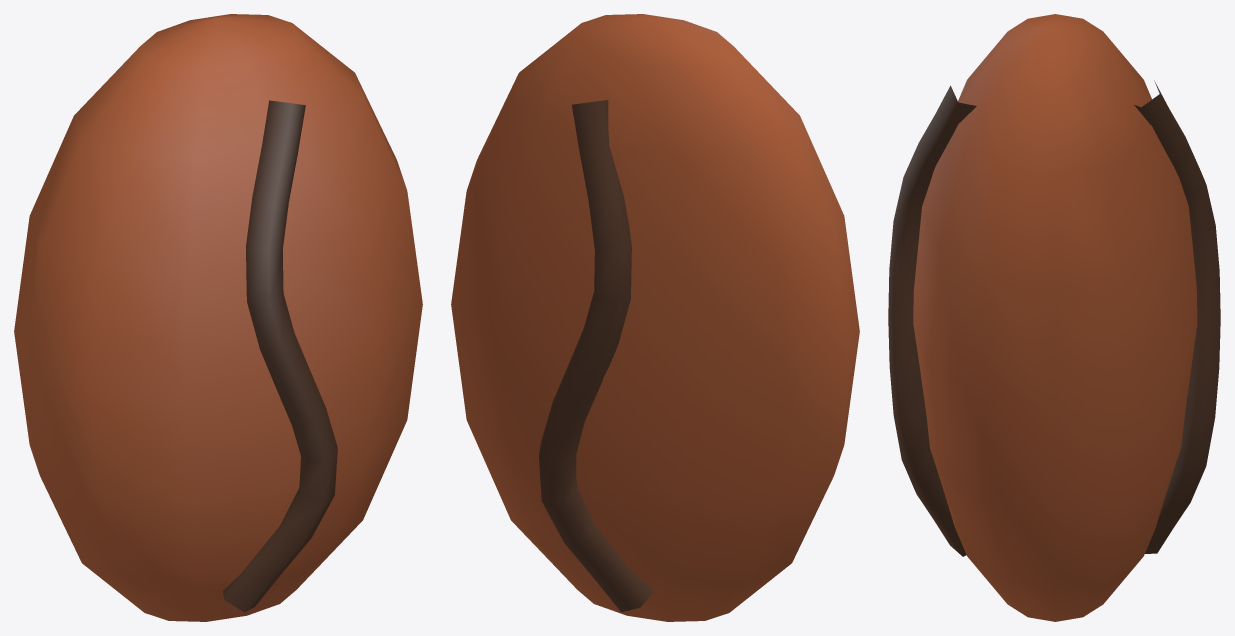
File: pickup.glb
3 views of the same model, side by side, from view 1: azimuth 30°, elevation 25°; view 2: azimuth 150°, elevation 25°; view 3: azimuth 270°, elevation 25° (orthographic). The views are drawn at different scales.
Bounding box in the file's own units: 0.1685 × 0.25 × 0.1294.
